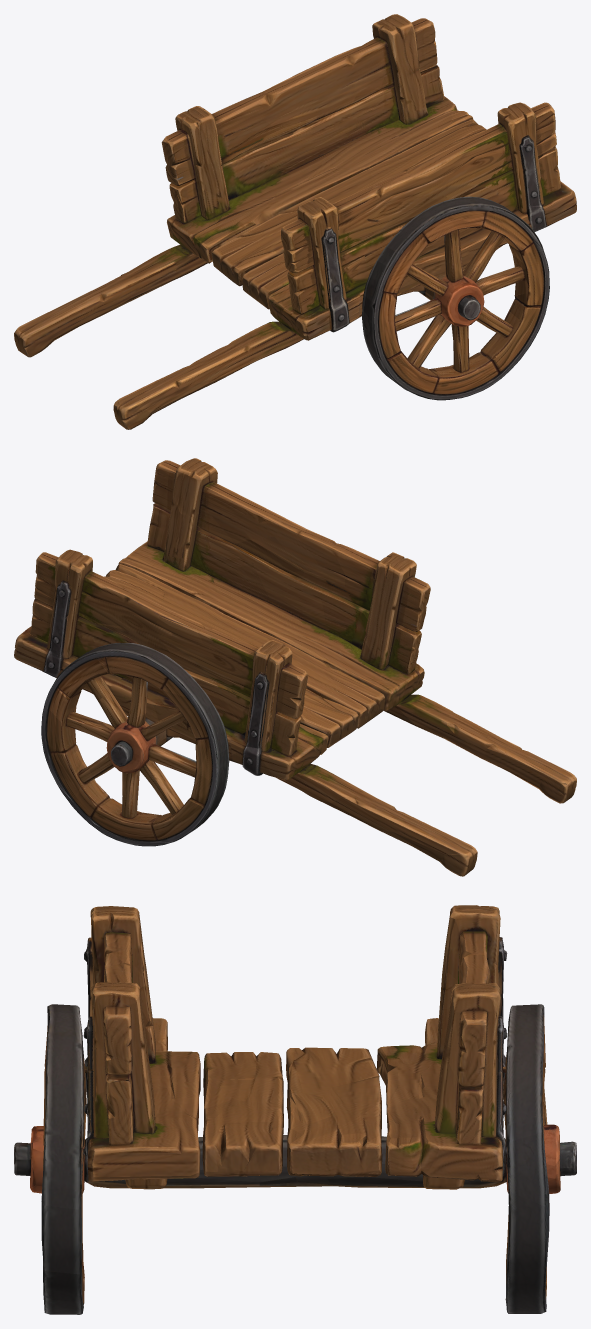
Rendered from cart_v2.glb.
3 renders of one model, top to bottom at view 1: azimuth 30°, elevation 25°; view 2: azimuth 150°, elevation 25°; view 3: azimuth 270°, elevation 25°, orthographic. The views are drawn at different scales.
Size of the model in its own units: 1.9 by 1.05 by 1.43.
Materials: 1 (1 with a texture image).
